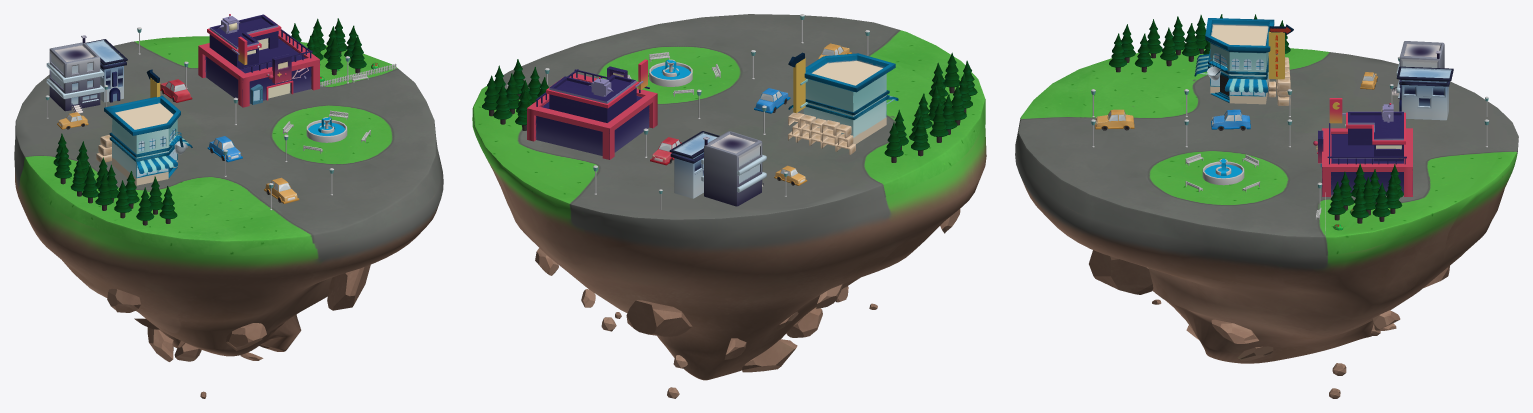
Rendered from Isla3fbx.fbx.
The picture shows the model from 3 angles, left to right: view 1: azimuth 30°, elevation 25°; view 2: azimuth 150°, elevation 25°; view 3: azimuth 270°, elevation 25°; orthographic projection. The views are drawn at different scales.
Visible parts, largest first — view 1: Object006, EdificioPrincipal, Edificio, Box007, Box018, fuente_3, faros002, faros001, faros, Arbol_017; view 2: Object006, EdificioPrincipal, Edificio, Box007, Box018, Muro, fuente_3, faros001, faros; view 3: Object006, EdificioPrincipal, Edificio, Box018, Box007, faros001, faros002, Muro, fuente_3.
Part boxes in pixels (x1=…): Object006: x1=14, y1=36, x2=443, y2=398; EdificioPrincipal: x1=198, y1=14, x2=319, y2=107; Edificio: x1=104, y1=69, x2=192, y2=185; Box007: x1=46, y1=35, x2=104, y2=113; Box018: x1=86, y1=39, x2=127, y2=102; fuente_3: x1=306, y1=117, x2=347, y2=142; faros002: x1=264, y1=177, x2=299, y2=203; faros001: x1=207, y1=136, x2=242, y2=162; faros: x1=160, y1=79, x2=192, y2=102; Arbol_017: x1=136, y1=187, x2=154, y2=225; Object006: x1=472, y1=14, x2=986, y2=398; EdificioPrincipal: x1=527, y1=59, x2=657, y2=159; Edificio: x1=788, y1=52, x2=898, y2=144; Box007: x1=701, y1=131, x2=766, y2=206; Box018: x1=669, y1=131, x2=719, y2=198; Muro: x1=788, y1=112, x2=855, y2=154; fuente_3: x1=649, y1=59, x2=692, y2=86; faros001: x1=754, y1=88, x2=790, y2=113; faros: x1=650, y1=137, x2=681, y2=165; Object006: x1=1015, y1=48, x2=1518, y2=398; EdificioPrincipal: x1=1313, y1=98, x2=1412, y2=196; Edificio: x1=1194, y1=18, x2=1293, y2=104; Box018: x1=1396, y1=66, x2=1453, y2=120; Box007: x1=1392, y1=41, x2=1444, y2=99; faros001: x1=1211, y1=109, x2=1250, y2=130; faros002: x1=1095, y1=109, x2=1134, y2=130; Muro: x1=1268, y1=57, x2=1290, y2=105; fuente_3: x1=1202, y1=159, x2=1244, y2=185.
Size of the model in its own units: 4158 by 3189 by 4419.
